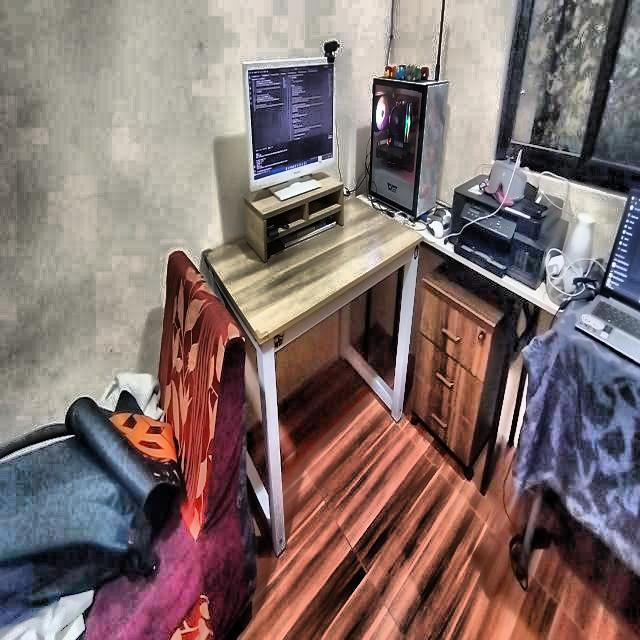mesa: (233, 194, 423, 538)
